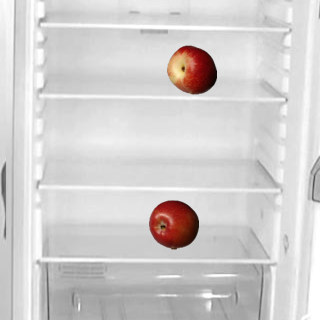Apple Braeburn: (148, 199, 198, 249)
Nectarine: (166, 44, 216, 94)
